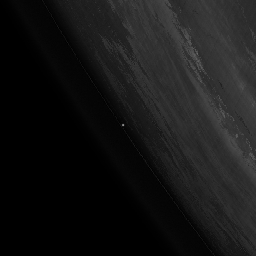Target: (120, 123, 124, 127)
